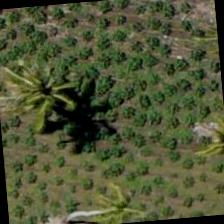Kelapa_Sawit: (0, 48, 93, 147), (62, 160, 158, 223)
